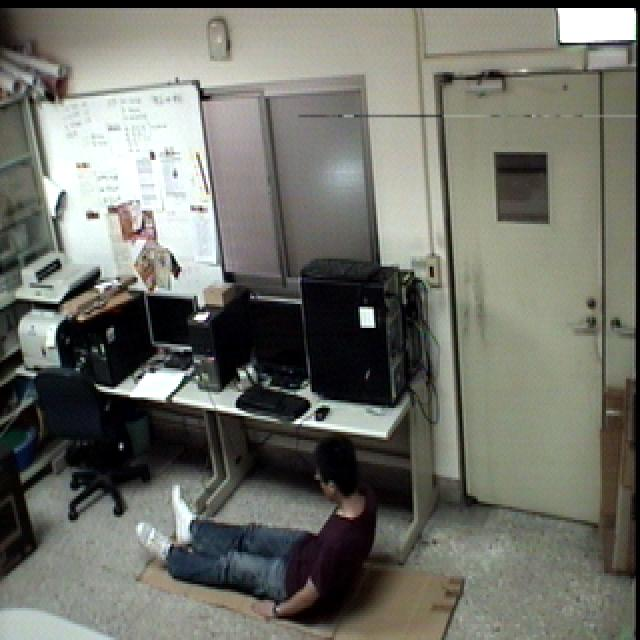sit: (127, 426, 375, 629)
